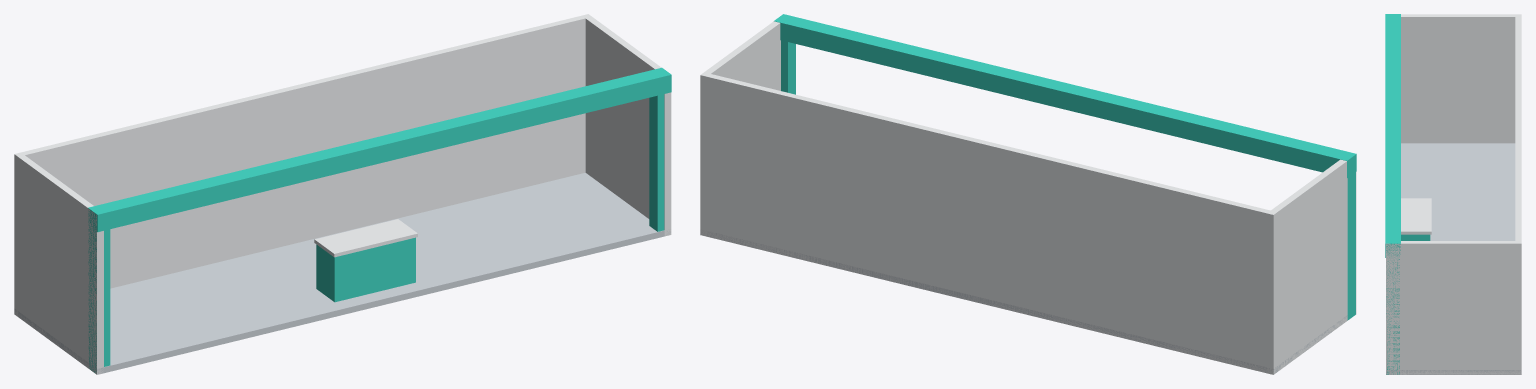
3 renders of one model, left to right at view 1: azimuth 30°, elevation 25°; view 2: azimuth 150°, elevation 25°; view 3: azimuth 270°, elevation 25°, orthographic. The views are drawn at different scales.
Parts seen in each view (by area): view 1: Exhibition Booth Concept; view 2: Exhibition Booth Concept; view 3: Exhibition Booth Concept.
Part boxes in pixels (box(x1,y1,x2,y2)): Exhibition Booth Concept: box(14, 14, 671, 374); Exhibition Booth Concept: box(700, 14, 1356, 374); Exhibition Booth Concept: box(1385, 14, 1521, 374).
Size of the model in its own units: 12 by 3.2 by 3.01.
